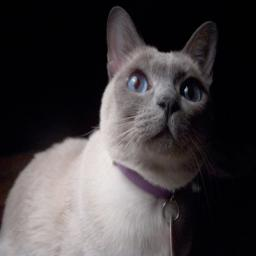catnose: (157, 94, 181, 119)
